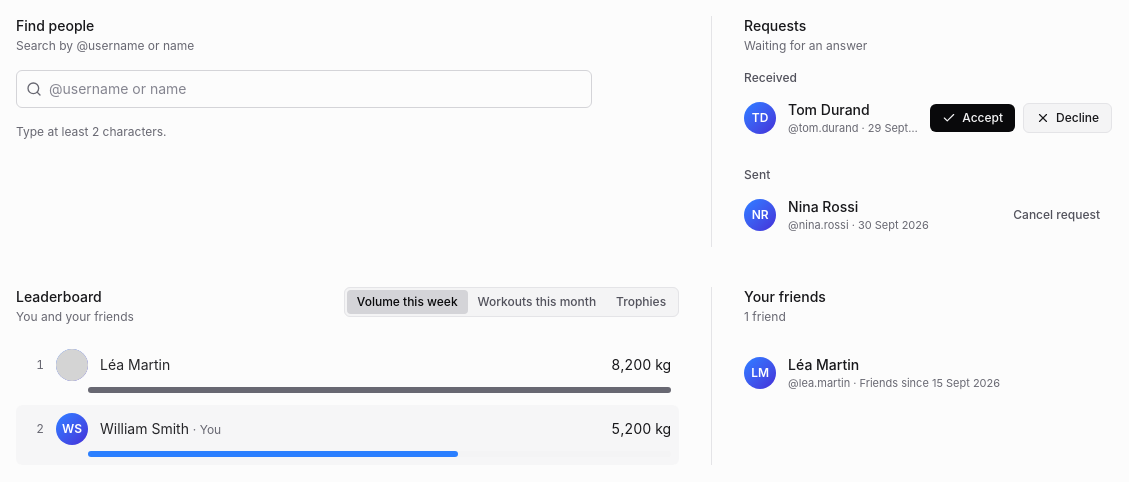
Test case: FriendsView › says when nobody matches and reports search errors
The image size is (1129, 482).
Step 1. Type "nobody" into the search field with id "friends-search" → (304, 89), box top-left (16, 70), bottom-right (592, 108)
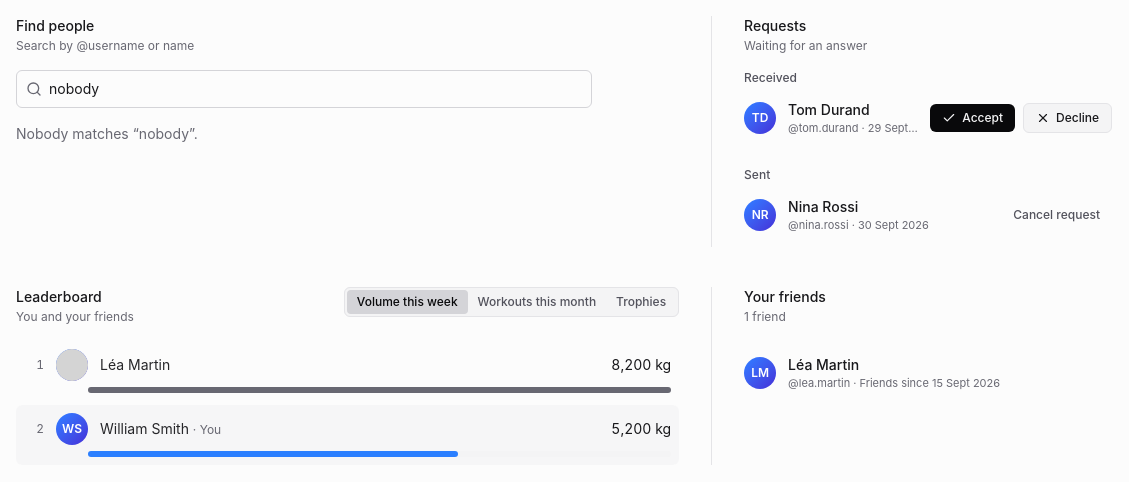
Expected: the text "Nobody matches “nobody”." is shown, top-left (16, 125), bottom-right (198, 142)
Step 2. Replace the text in the search field with id "friends-search" with "again" → (304, 89), box top-left (16, 70), bottom-right (592, 108)
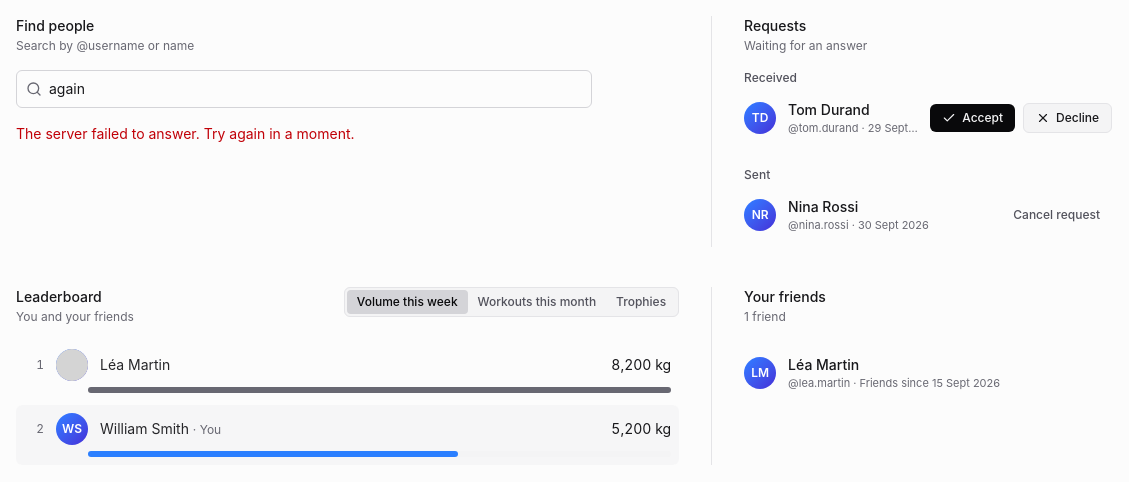
Expected: the text "The server failed to answer." is shown, top-left (16, 125), bottom-right (354, 142)
